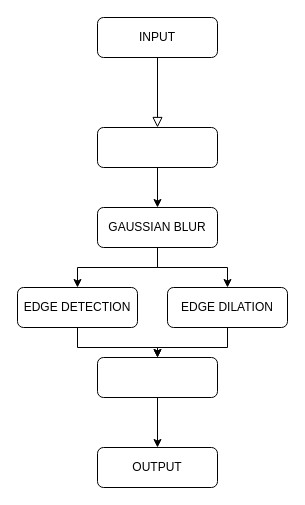
The diagram is 305 pixels wide and 505 high, and some of its shapes have lost their labels. Here are the shapes that lost their labels. From the top down, the box of each, then its label:
(96, 126, 218, 168): GRAY SCALE CONVERSION
(96, 356, 218, 398): SHARPENING
